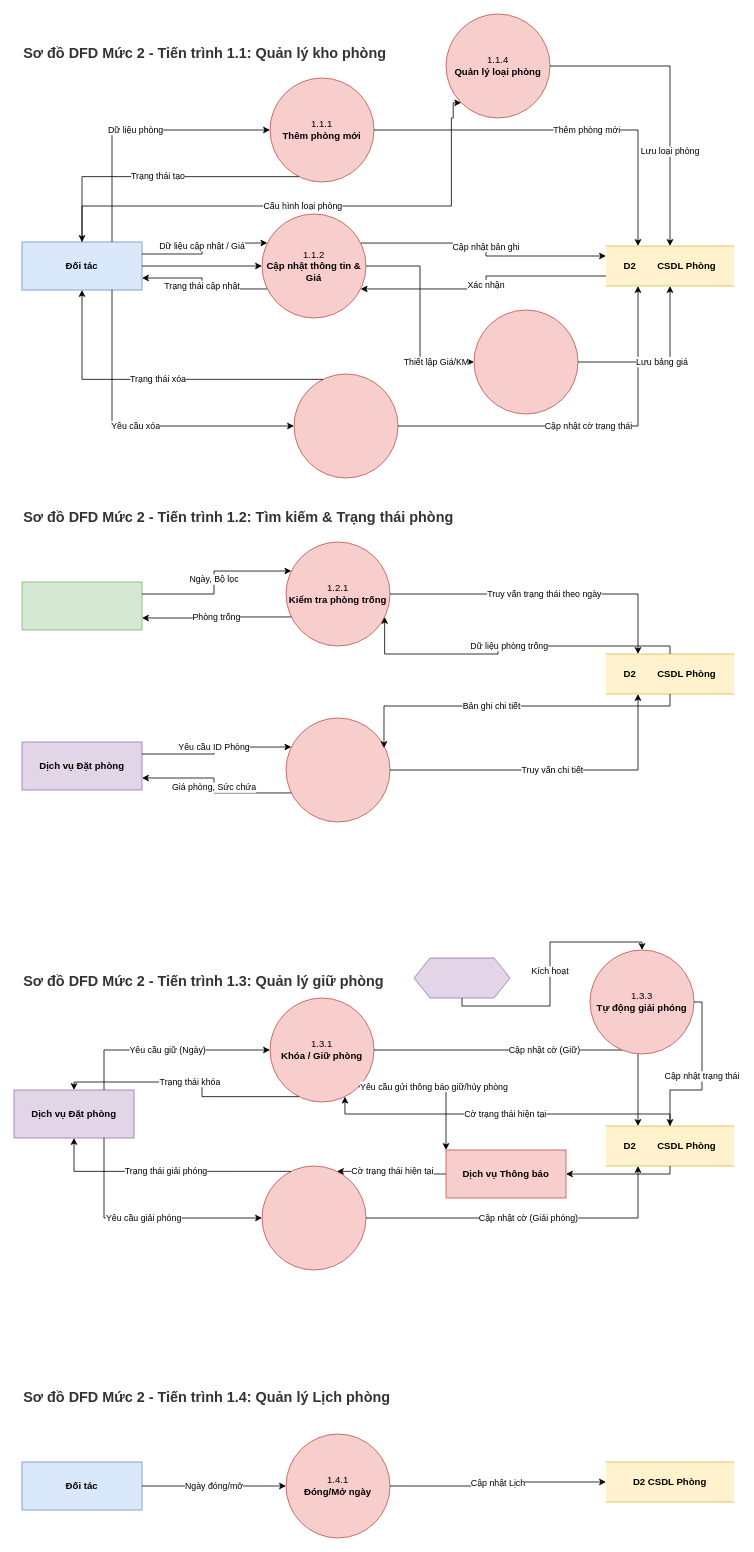
This 754x1552 diagram has some shape labels left out. Here are the shapes that lost their labels. From the top down, the centre of each, then its label:
At [525,361]: "1.1.5 Quản lý Giá & Khuyến mãi".
At [345,425]: "1.1.3 Xóa / Hủy kích hoạt".
At [81,605]: "Khách hàng".
At [337,769]: "1.2.2 Cung cấp chi tiết".
At [461,977]: "Hết hạn giữ phòng".
At [313,1217]: "1.3.2 Giải phóng phòng".
